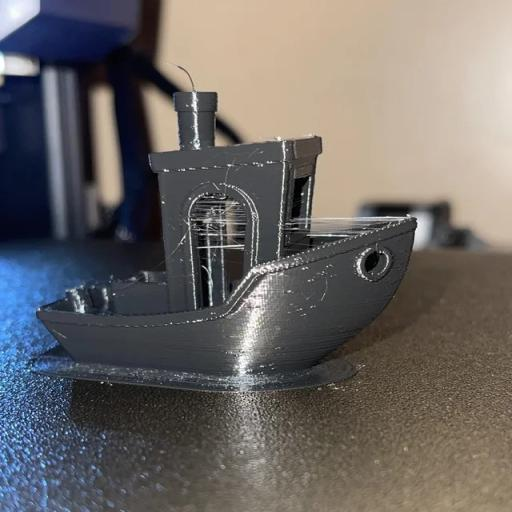stringing: (196, 200, 254, 257), (288, 212, 408, 234)
